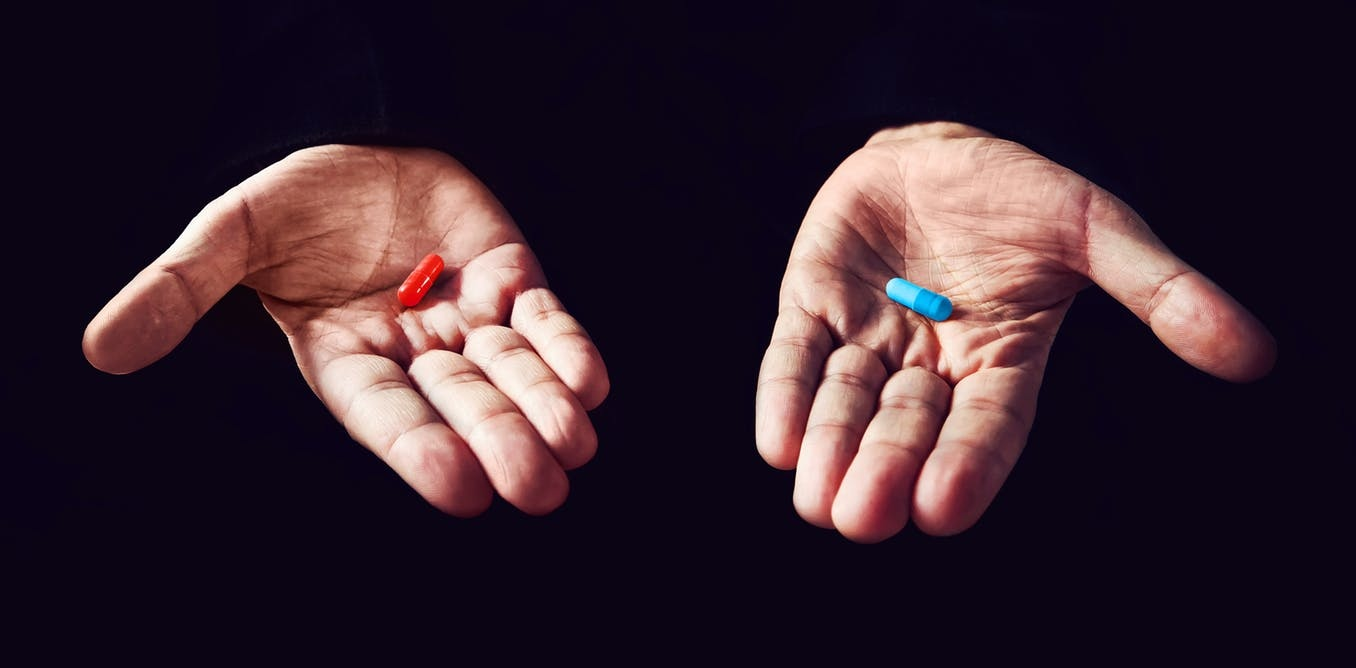pills: (383, 246, 452, 322), (875, 278, 962, 325)
